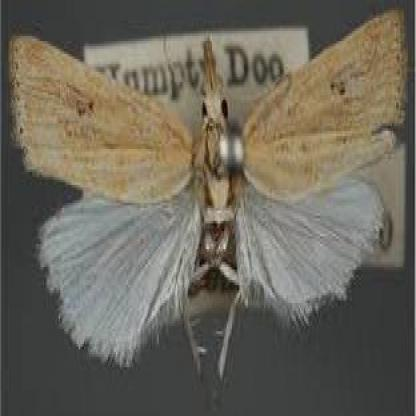stem-borer: (7, 6, 408, 387)
